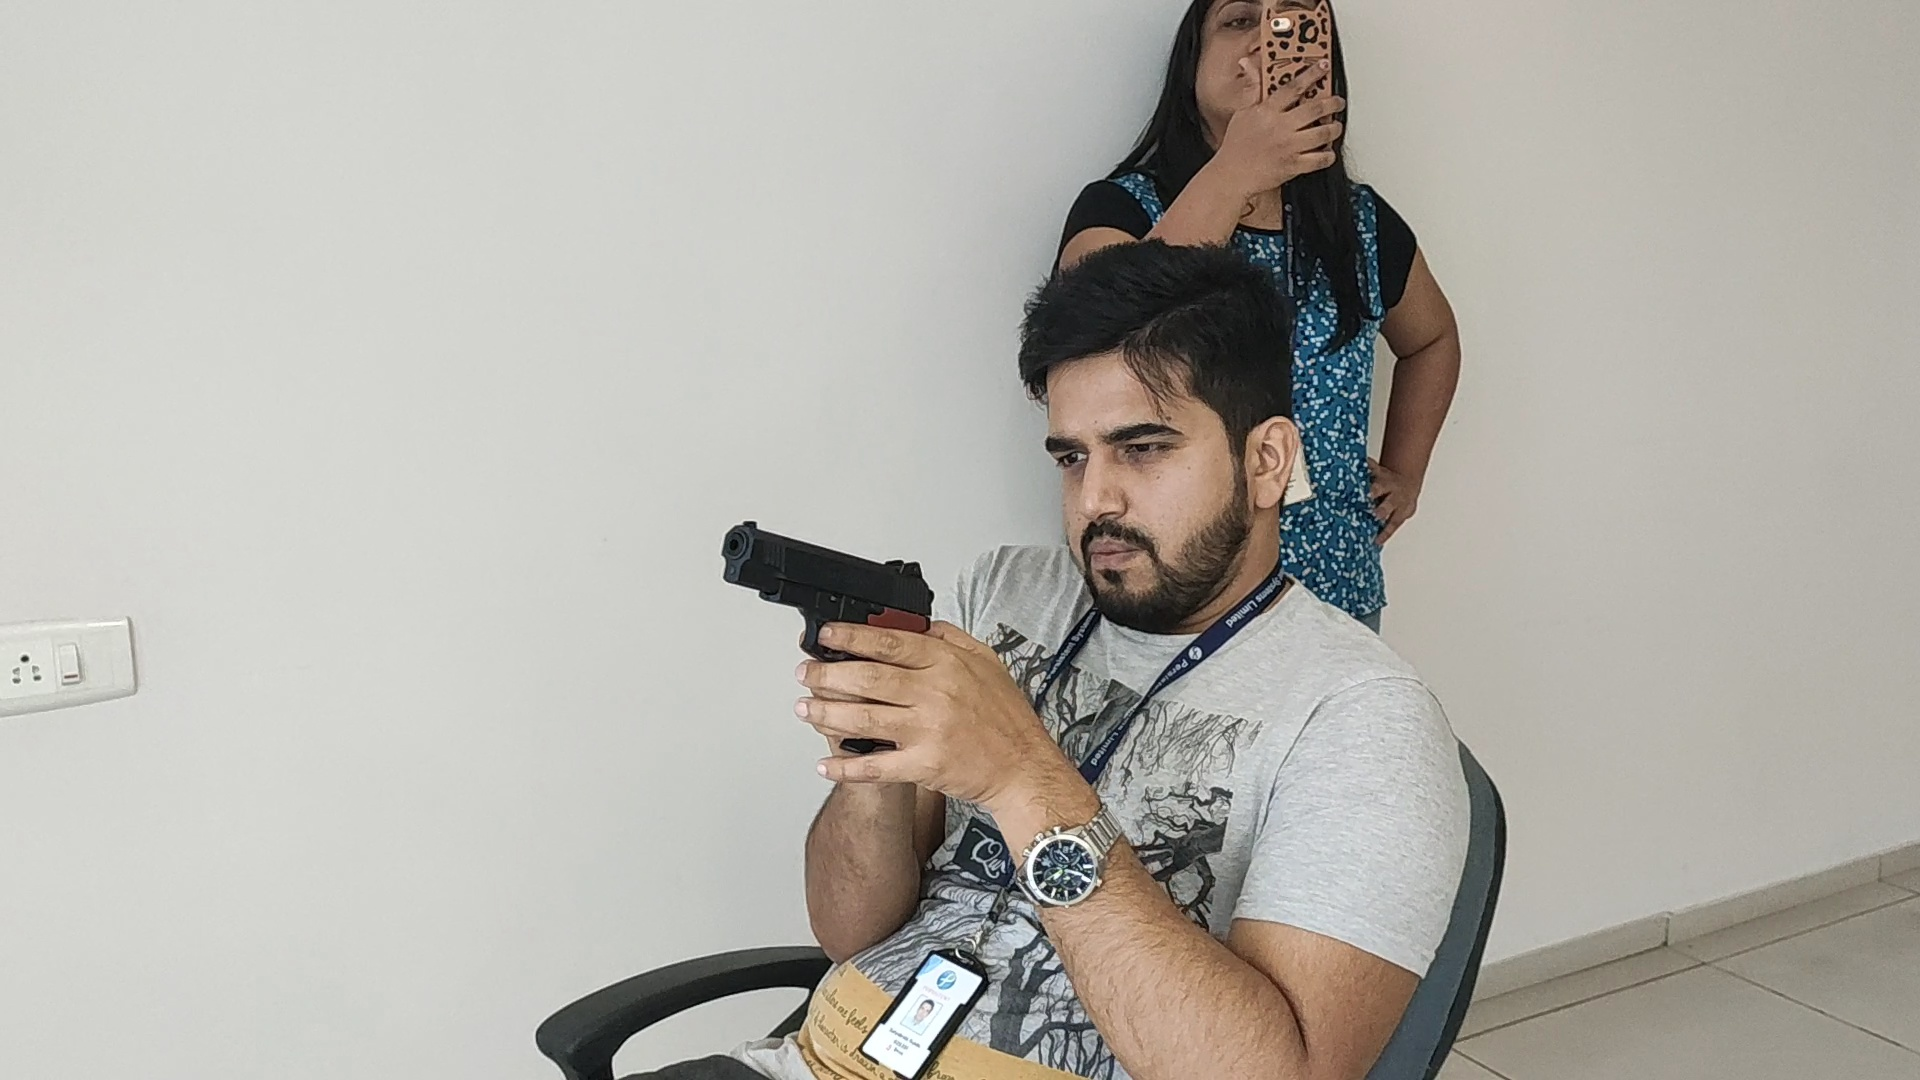gun: (720, 520, 935, 622)
